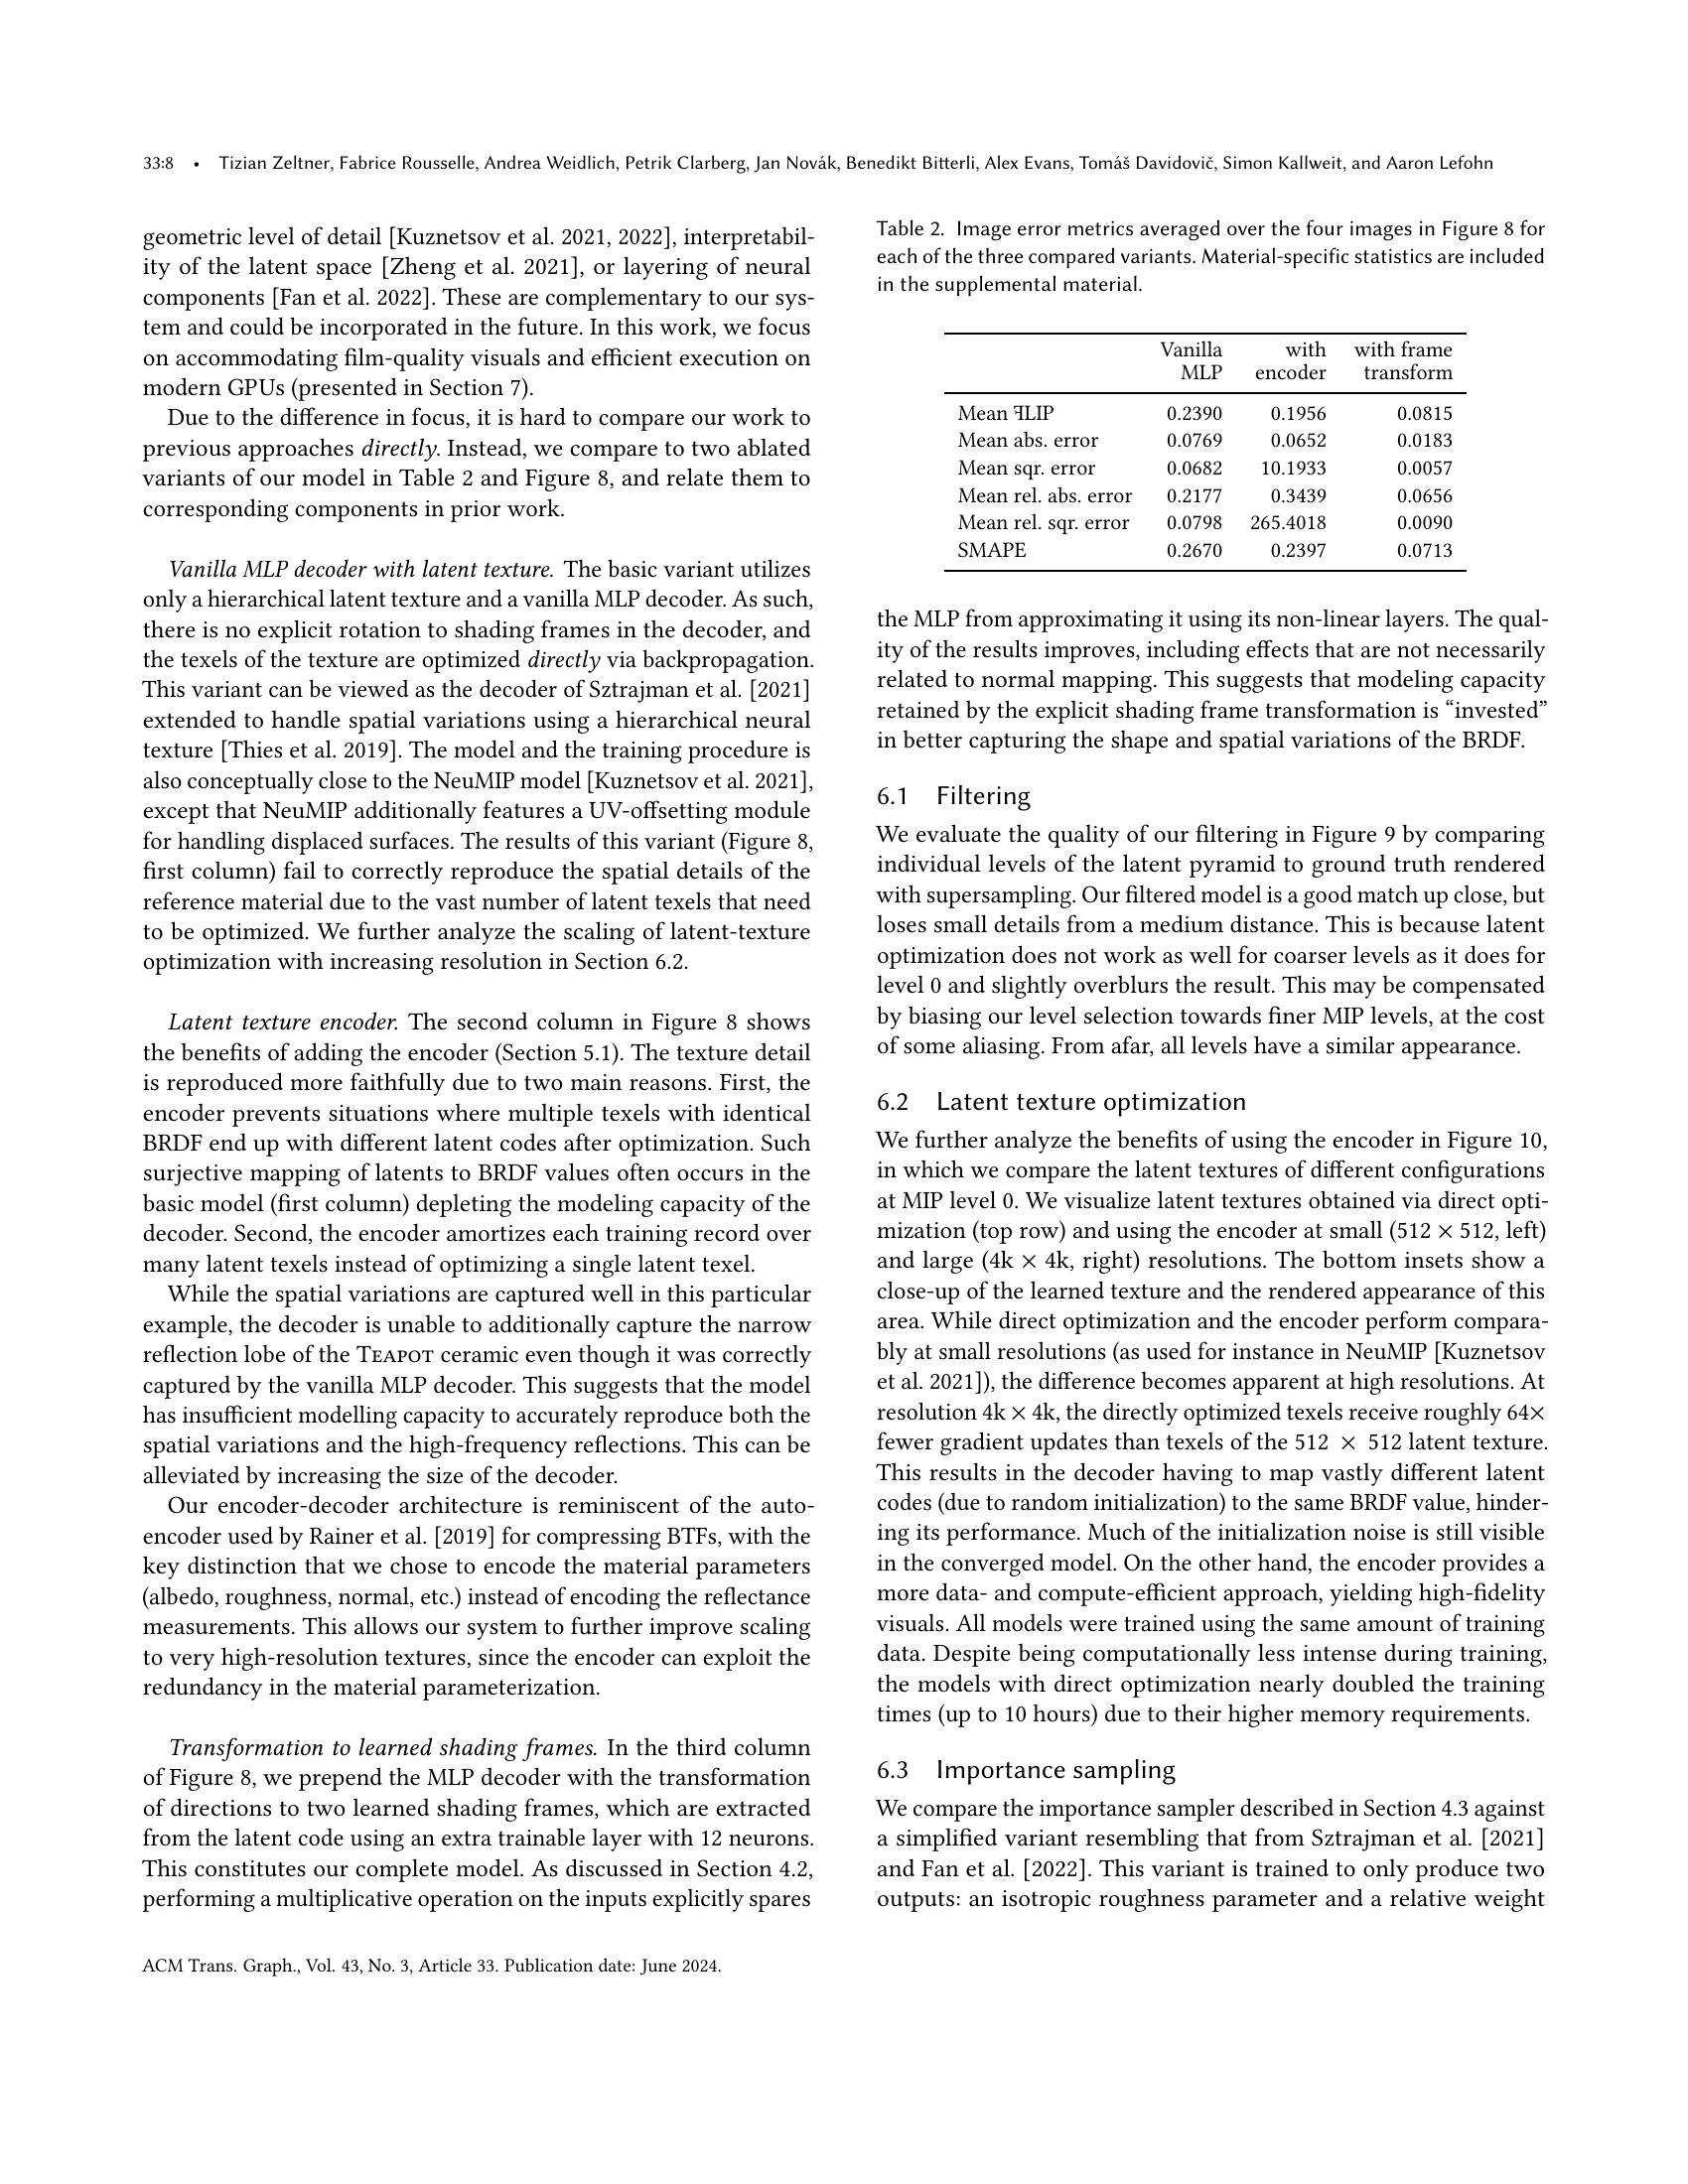table: (867, 206, 1556, 578)
text: (132, 1006, 819, 1706), (865, 1084, 1556, 1737), (865, 600, 1556, 1067), (132, 552, 819, 982), (132, 219, 819, 527), (132, 1728, 819, 1921), (865, 1753, 1556, 1921)
